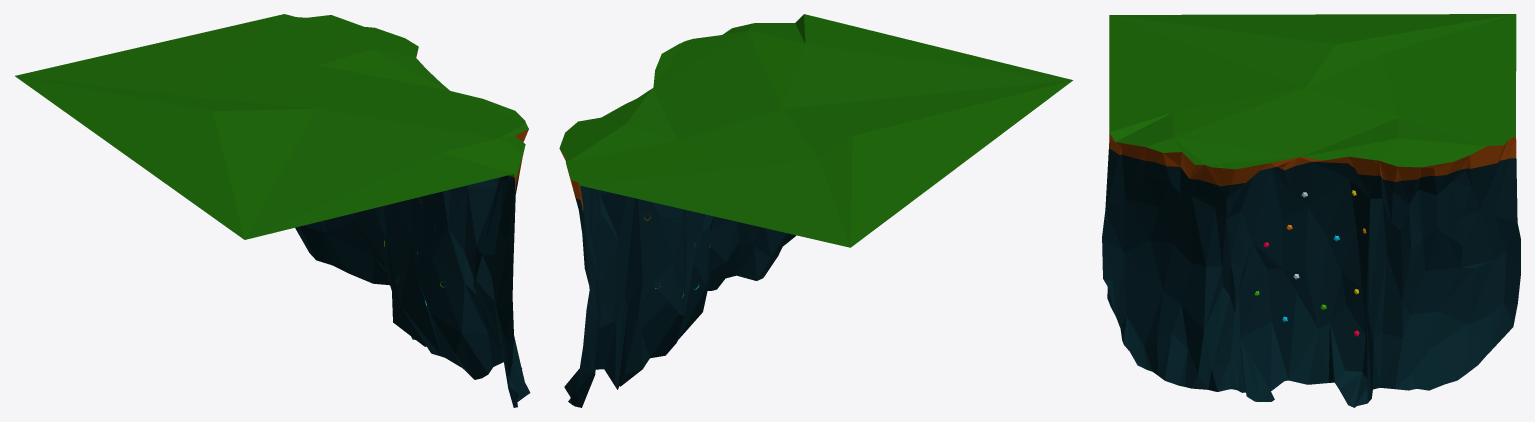
Rendered from DECORATION (2).fbx.
The picture shows the model from 3 angles, left to right: view 1: azimuth 30°, elevation 25°; view 2: azimuth 150°, elevation 25°; view 3: azimuth 270°, elevation 25°; orthographic projection. The views are drawn at different scales.
Parts seen in each view (by area): view 1: Cylinder.001; view 2: Cylinder.001; view 3: Cylinder.001.
Boxes of the visible parts, left/top/right/bottom form: Cylinder.001: left=15, top=14, right=530, bottom=407; Cylinder.001: left=559, top=14, right=1073, bottom=407; Cylinder.001: left=1102, top=14, right=1520, bottom=407.
Bounding box in the file's own units: 18716 × 15389 × 21923.
